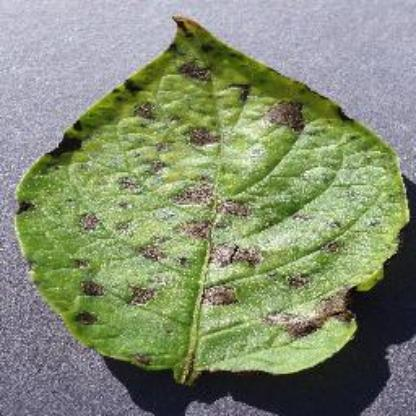Early-Blight: (18, 9, 414, 389)
